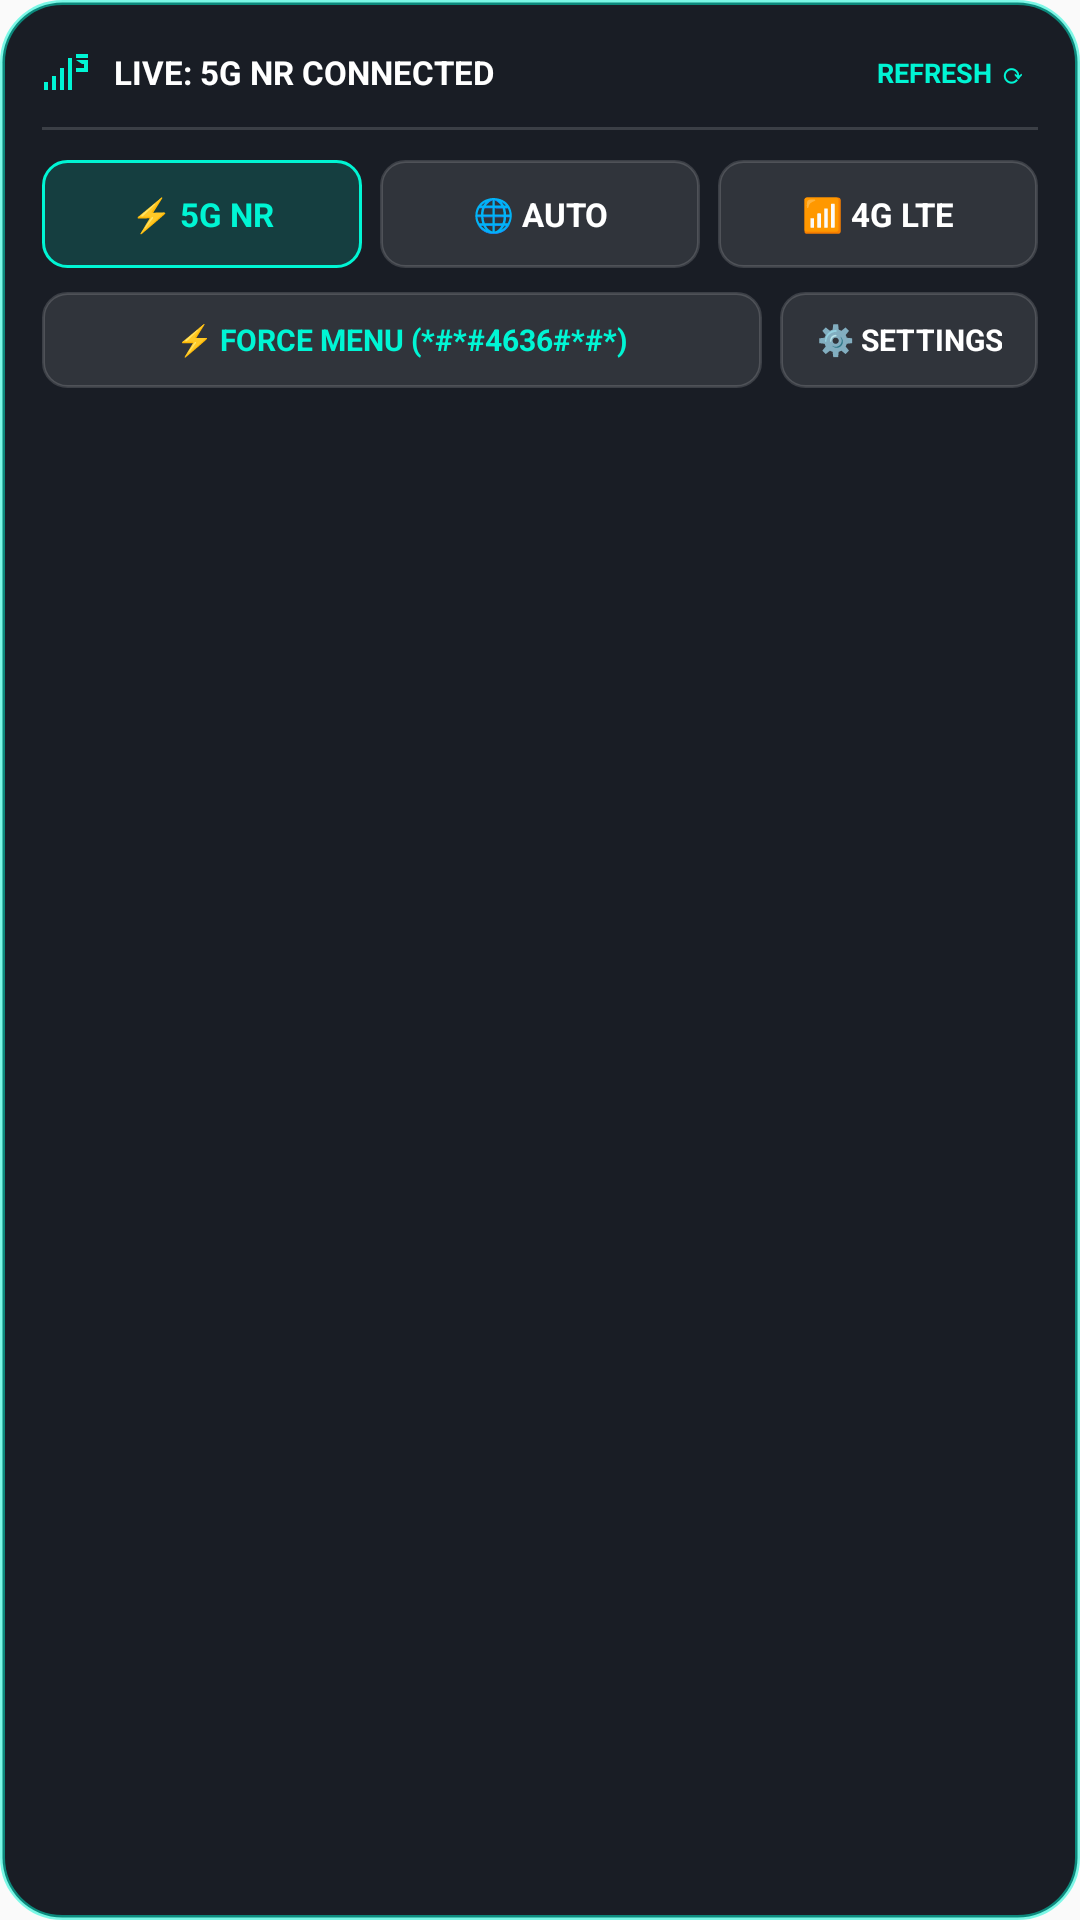

Screen size 1080 x 1920. Icon name, then its box in pixels as BBox(x1, y1, x2, y2):
Status icon: BBox(44, 54, 88, 90)
